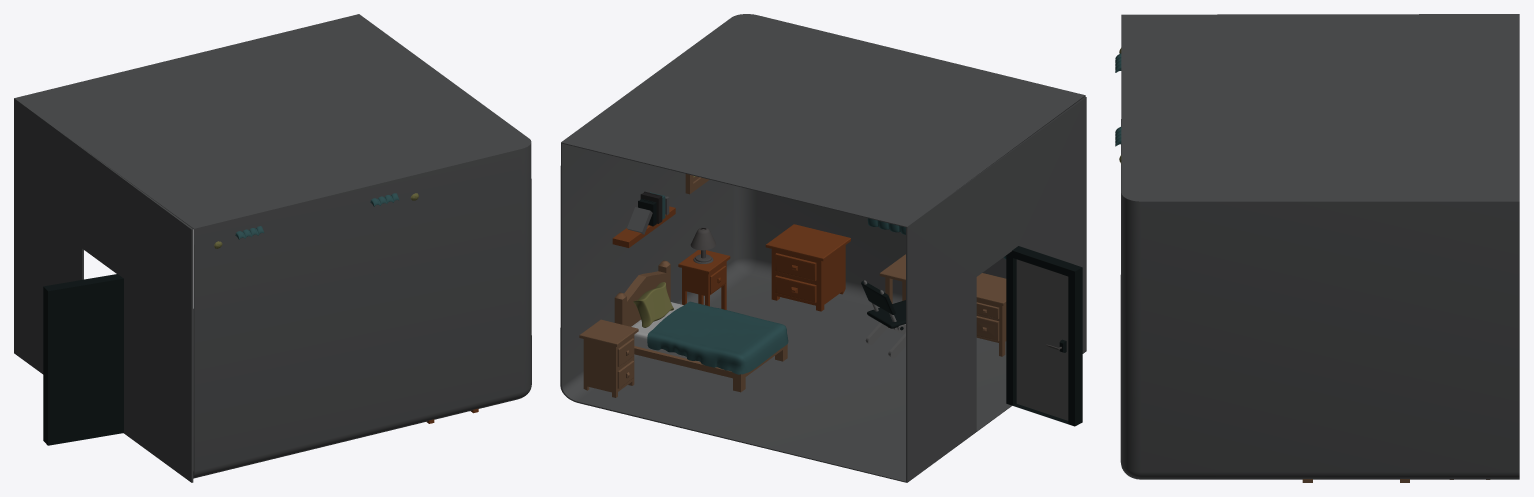
The model's file is Eco Digital Quarto.fbx.
The picture shows the model from 3 angles, left to right: view 1: azimuth 30°, elevation 25°; view 2: azimuth 150°, elevation 25°; view 3: azimuth 270°, elevation 25°; orthographic projection. The views are drawn at different scales.
Visible parts, largest first — view 1: Cube.008, Cube.045; view 2: Cube.008, Cube.045, Lençol, Cube.012, Cube.013, Cube.015, Cube.009, Cube.014, Cube.010, Cube.016, Cube.011, Cube.017 (+2 smaller); view 3: Cube.008.
Part boxes in pixels (x1,y1,x2,y2): Cube.008: (14,14,531,482); Cube.045: (43,274,123,445); Cube.008: (560,14,1086,482); Cube.045: (1006,246,1082,426); Lençol: (647,301,788,374); Cube.012: (765,224,850,311); Cube.013: (579,319,638,397); Cube.015: (879,254,1006,356); Cube.009: (614,260,787,392); Cube.014: (678,250,730,309); Cube.010: (631,302,787,379); Cube.016: (861,280,905,328); Cube.011: (633,282,673,327); Cube.017: (863,280,905,358); Cube.008: (1120,14,1519,479).
Bounding box in the file's own units: 4746 × 2787 × 3589.
